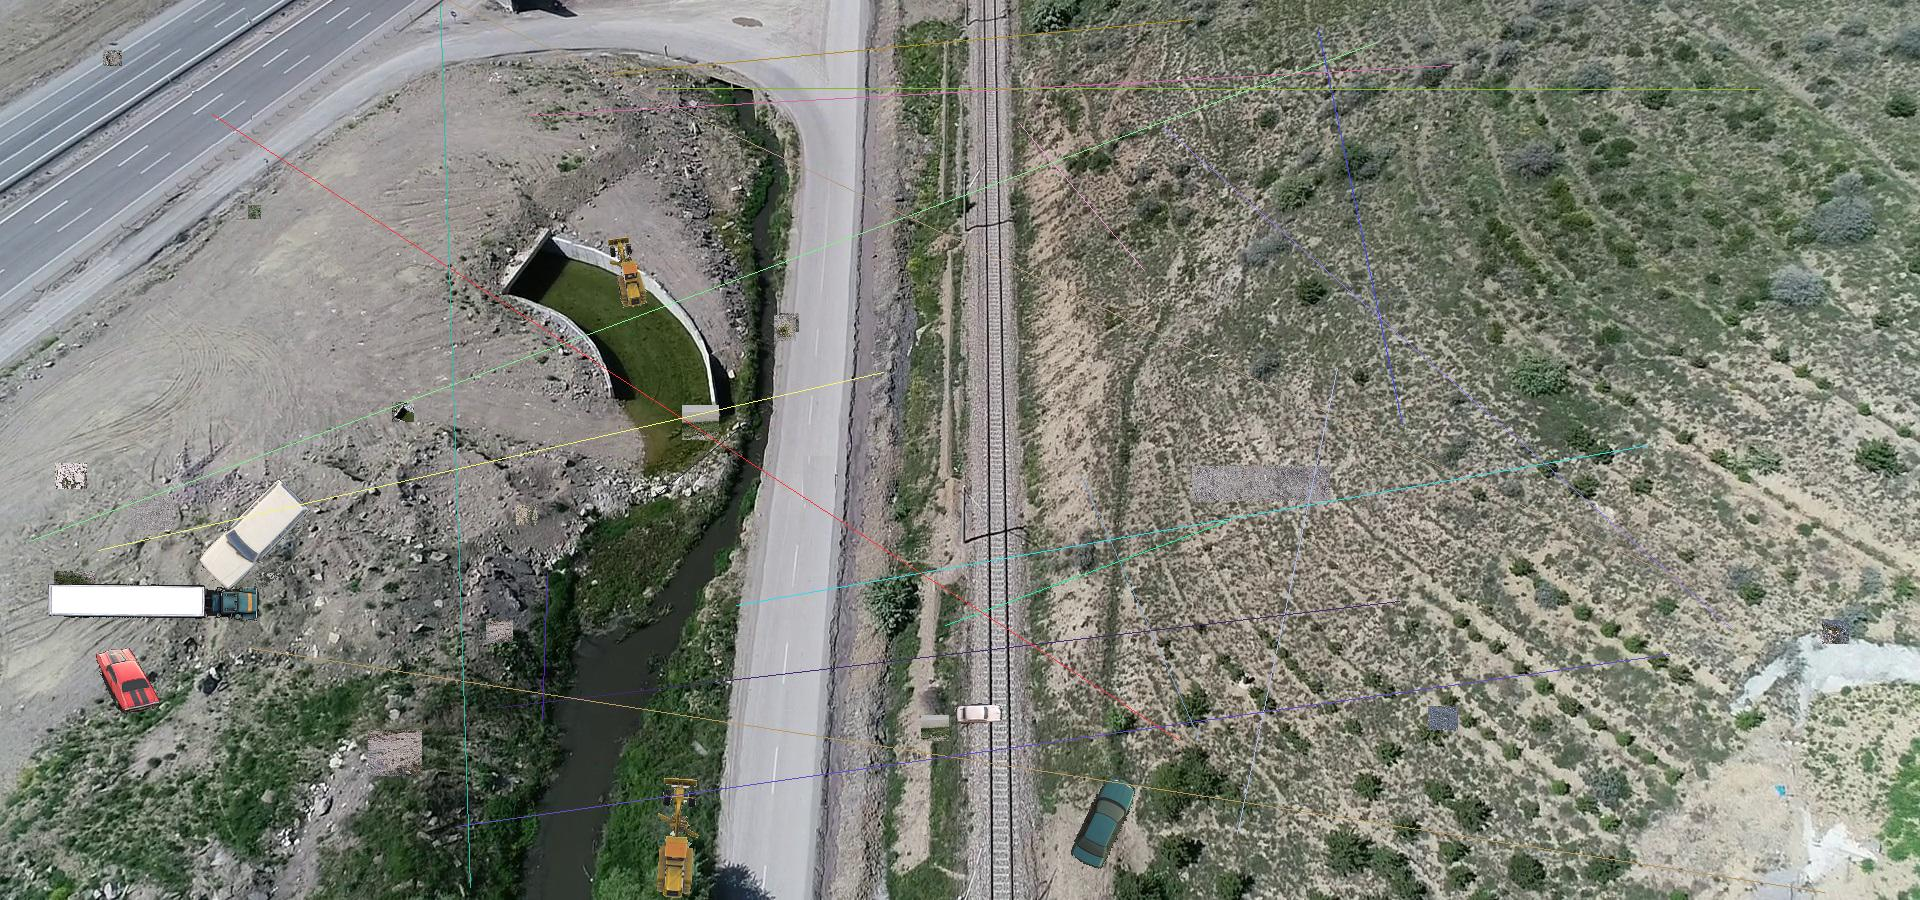arac: (192, 479, 311, 590), (45, 578, 262, 623), (1068, 774, 1135, 869), (654, 775, 700, 898), (91, 645, 160, 715), (606, 236, 649, 309), (953, 703, 1004, 725)
